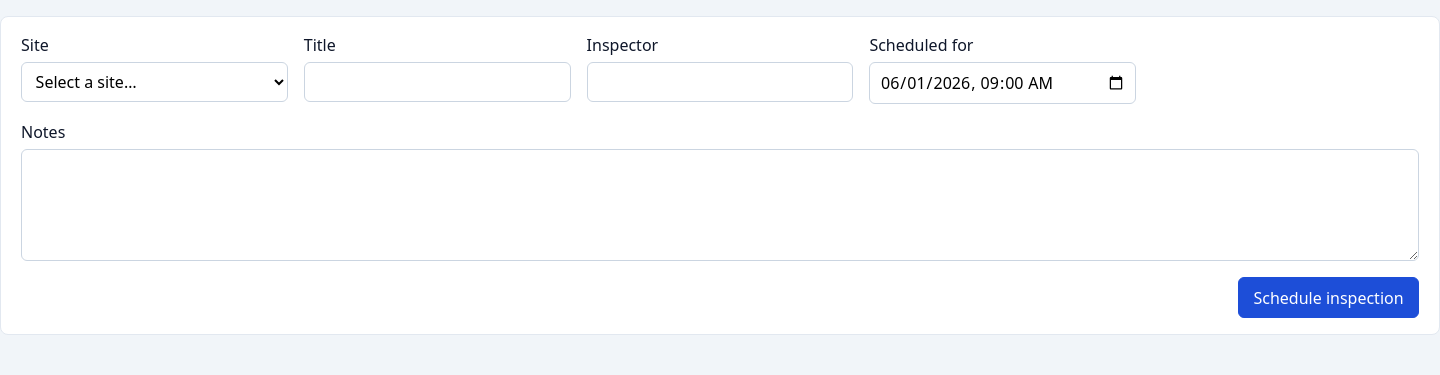
Test: InspectionForm › shows validation errors and does not submit when required fields are missing
Click the button "Schedule inspection" at [1329, 298], box [1238,277,1419,318]
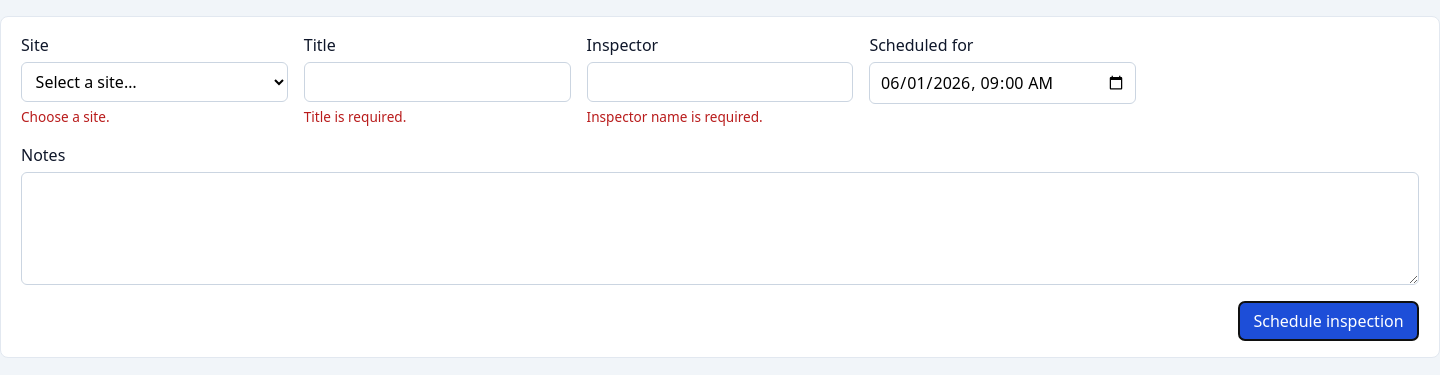
Expected: the text "Choose a site." is shown, [21,107,110,126]
Expected: the text "Title is required." is shown, [304,107,406,126]
Expected: the text "Inspector name is required." is shown, [587,107,763,126]
